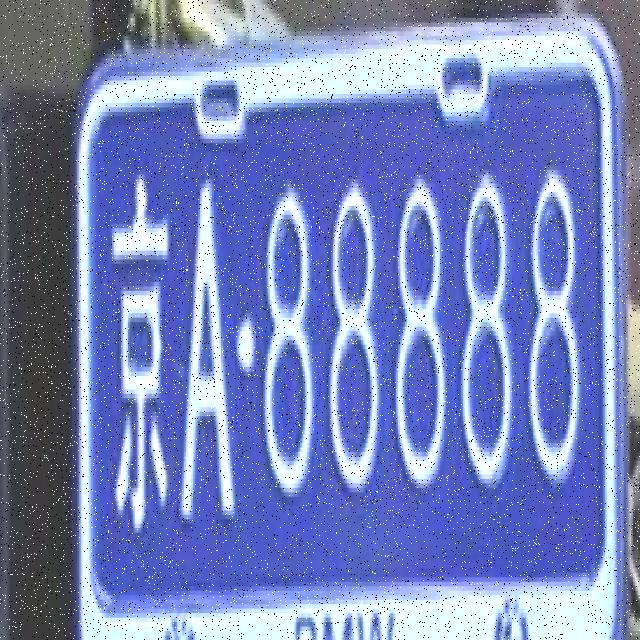licenseplate: (72, 11, 626, 640)
